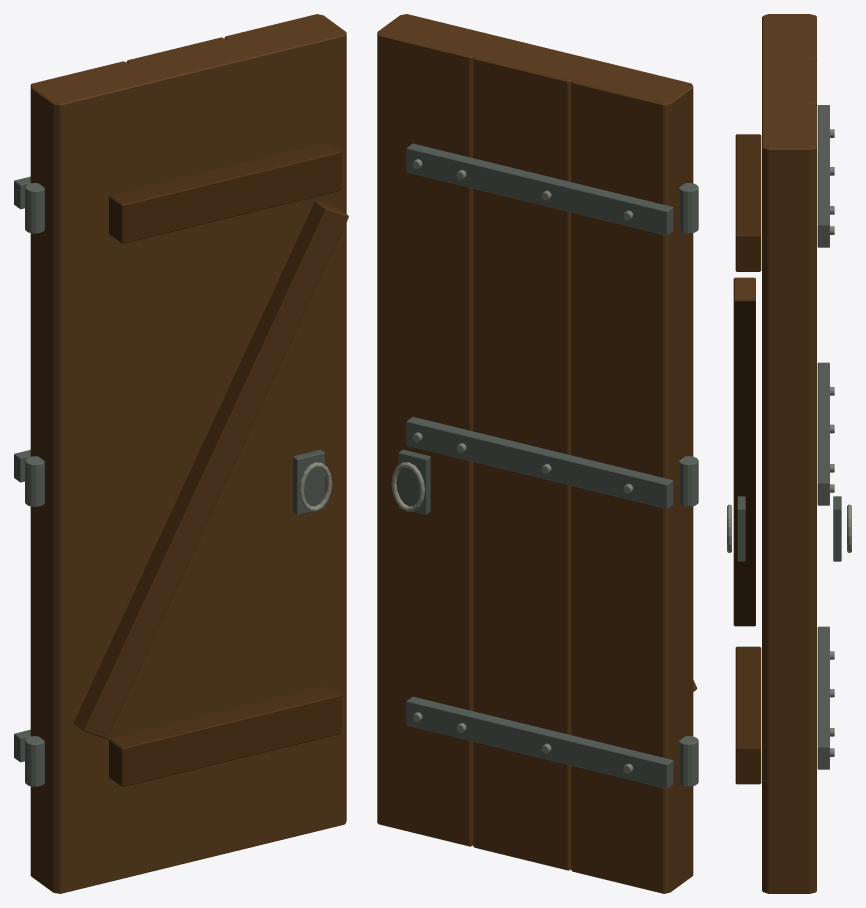
The model's file is Porte_V3.fbx.
The picture shows the model from 3 angles, left to right: view 1: azimuth 30°, elevation 25°; view 2: azimuth 150°, elevation 25°; view 3: azimuth 270°, elevation 25°; orthographic projection. The views are drawn at different scales.
Visible parts, largest first — view 1: V3_Porte_Bois_Deux_Faces, V3_Porte_Ferrures_Charniere; view 2: V3_Porte_Bois_Deux_Faces, V3_Porte_Ferrures_Charniere; view 3: V3_Porte_Bois_Deux_Faces, V3_Porte_Ferrures_Charniere.
Boxes of the visible parts, x1,y1,x2,y2 form: V3_Porte_Bois_Deux_Faces: [30, 14, 348, 893]; V3_Porte_Ferrures_Charniere: [14, 176, 332, 786]; V3_Porte_Bois_Deux_Faces: [377, 14, 696, 893]; V3_Porte_Ferrures_Charniere: [391, 143, 698, 788]; V3_Porte_Bois_Deux_Faces: [733, 14, 816, 893]; V3_Porte_Ferrures_Charniere: [727, 105, 851, 769].
Bounding box in the file's own units: 98.23 × 240 × 36.45.
